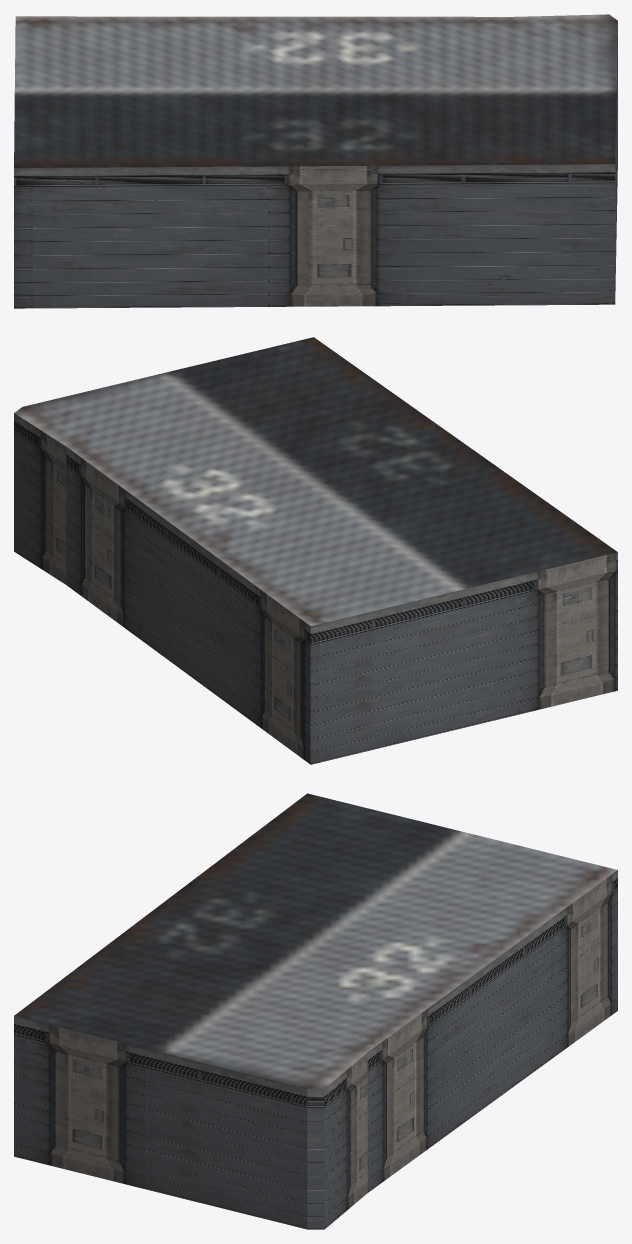
Rendered from hangar_light_32.glb.
3 views of the same model, one above another, from view 1: azimuth 30°, elevation 25°; view 2: azimuth 150°, elevation 25°; view 3: azimuth 270°, elevation 25° (orthographic).
Visible parts, largest first — view 1: buildings/saxarba/hangar_light/hangar_light_32; view 2: buildings/saxarba/hangar_light/hangar_light_32; view 3: buildings/saxarba/hangar_light/hangar_light_32.
Boxes of the visible parts, x1=… form: buildings/saxarba/hangar_light/hangar_light_32: x1=14, y1=14, x2=617, y2=308; buildings/saxarba/hangar_light/hangar_light_32: x1=14, y1=337, x2=617, y2=764; buildings/saxarba/hangar_light/hangar_light_32: x1=14, y1=793, x2=617, y2=1229.
Bounding box in the file's own units: 81 × 18 × 70.
